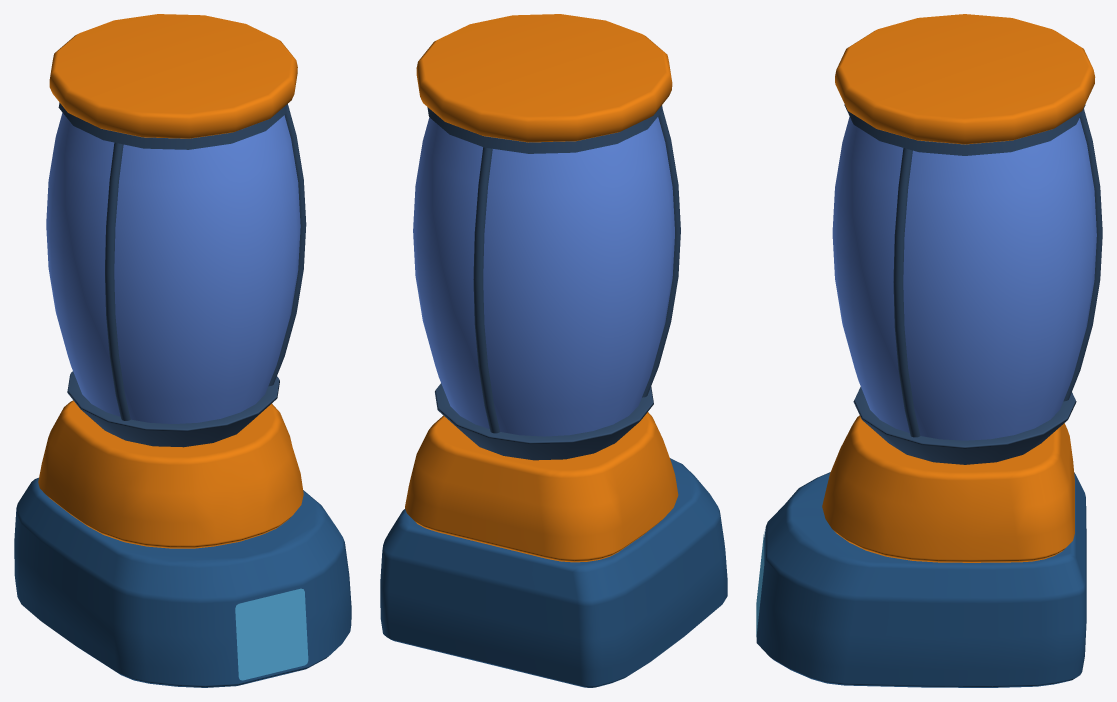
Rendered from Misc_LaserBlender_Base.fbx.
The picture shows the model from 3 angles, left to right: view 1: azimuth 30°, elevation 25°; view 2: azimuth 150°, elevation 25°; view 3: azimuth 270°, elevation 25°; orthographic projection. The views are drawn at different scales.
Parts seen in each view (by area): view 1: Misc_LaserBlender_Base.001; view 2: Misc_LaserBlender_Base.001; view 3: Misc_LaserBlender_Base.001.
Boxes of the visible parts, x1=… form: Misc_LaserBlender_Base.001: x1=14, y1=14, x2=351, y2=687; Misc_LaserBlender_Base.001: x1=380, y1=14, x2=727, y2=687; Misc_LaserBlender_Base.001: x1=756, y1=14, x2=1102, y2=687.
Bounding box in the file's own units: 0.1223 × 0.2626 × 0.1464.
